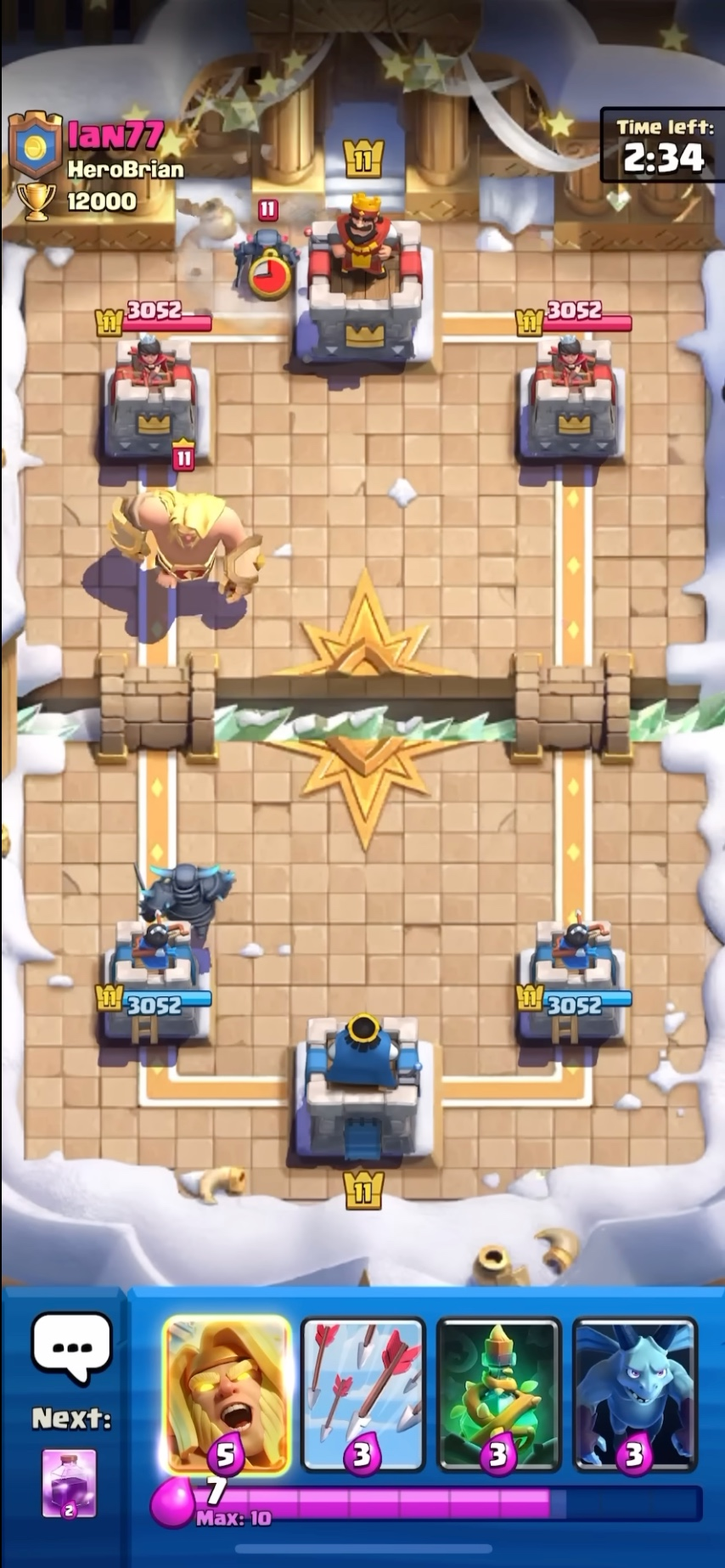hero-giant: (104, 439, 267, 627)
mini-pekka: (230, 197, 305, 294)
